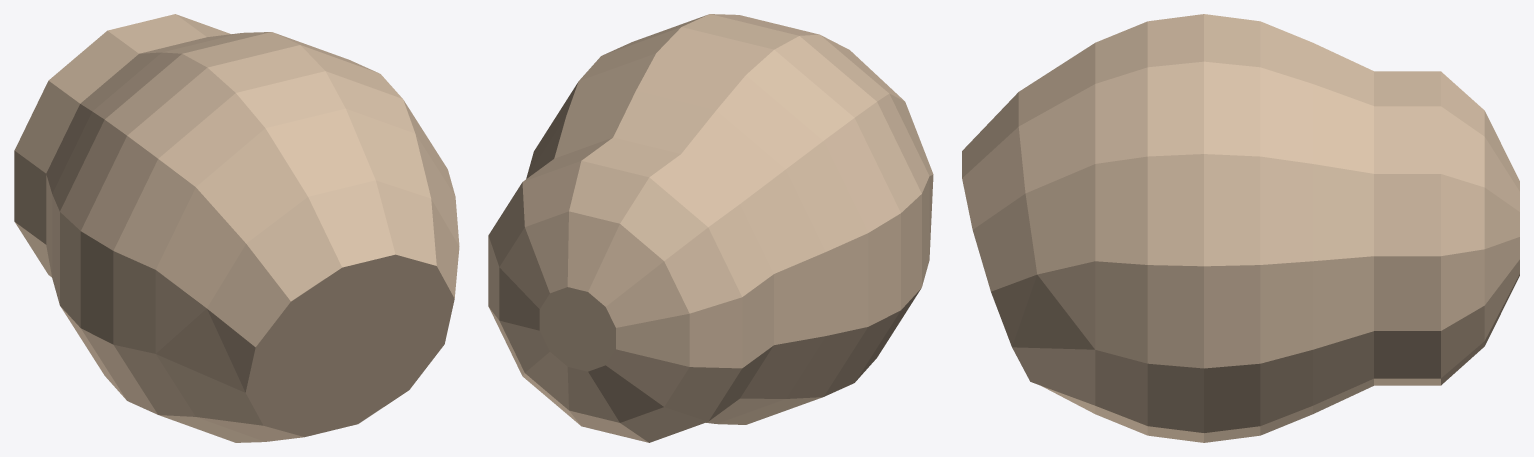
Rendered from Libra_Crew_1_Collider.obj.
The picture shows the model from 3 angles, left to right: view 1: azimuth 30°, elevation 25°; view 2: azimuth 150°, elevation 25°; view 3: azimuth 270°, elevation 25°; orthographic projection. The views are drawn at different scales.
Visible parts, largest first — view 1: Libra_Crew_1_Collider1, Libra_Crew_1_Collider2; view 2: Libra_Crew_1_Collider1, Libra_Crew_1_Collider2; view 3: Libra_Crew_1_Collider1, Libra_Crew_1_Collider2.
Boxes of the visible parts, left/top/right/bottom form: Libra_Crew_1_Collider1: left=46, top=32, right=459, bottom=442; Libra_Crew_1_Collider2: left=14, top=14, right=230, bottom=277; Libra_Crew_1_Collider1: left=526, top=14, right=933, bottom=424; Libra_Crew_1_Collider2: left=488, top=137, right=773, bottom=442; Libra_Crew_1_Collider1: left=962, top=14, right=1373, bottom=442; Libra_Crew_1_Collider2: left=1374, top=71, right=1519, bottom=385.
Bounding box in the file's own units: 1.2 × 1.2 × 1.59.
